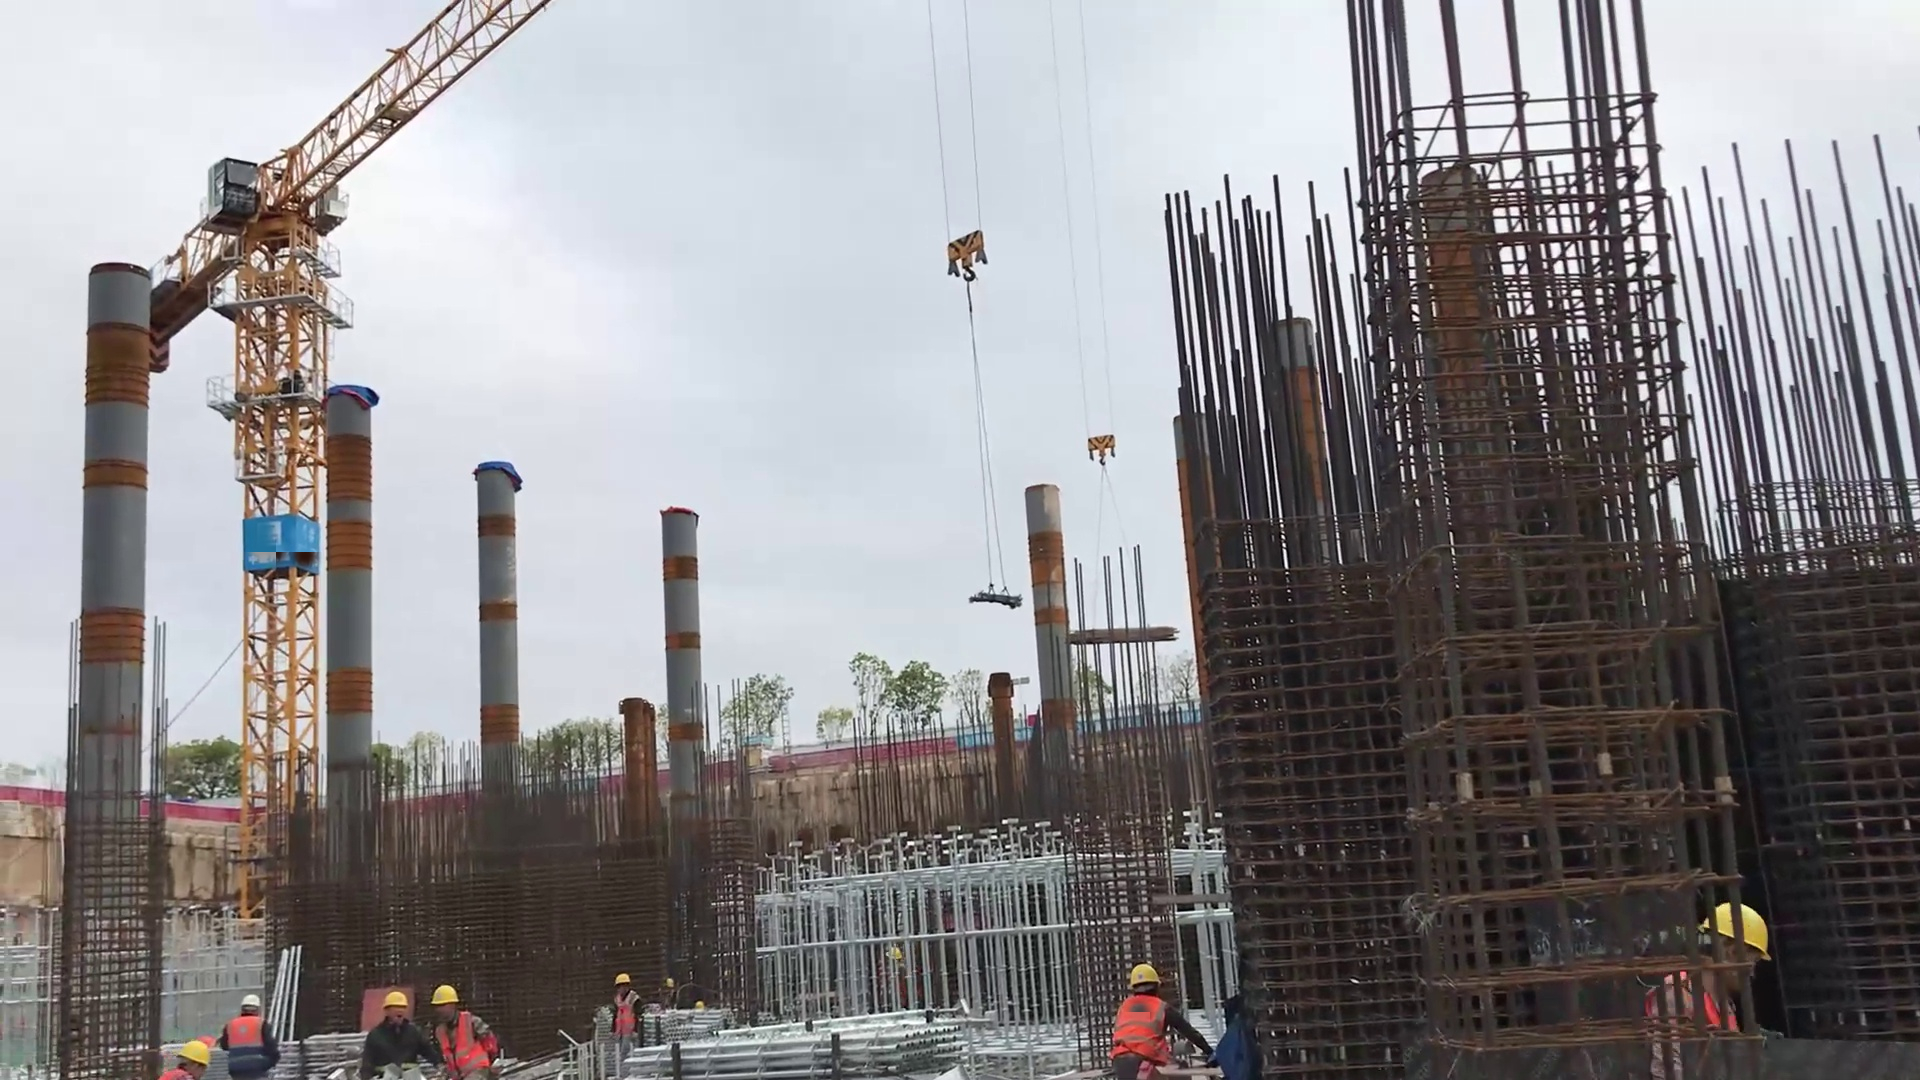helmet: (1702, 900, 1774, 963), (176, 1038, 213, 1067), (1129, 963, 1162, 987), (432, 985, 461, 1007), (381, 990, 408, 1010), (241, 993, 262, 1009), (613, 973, 632, 986)
person: (1649, 894, 1790, 1080), (1112, 963, 1207, 1080), (426, 976, 510, 1080), (355, 987, 440, 1080), (218, 987, 290, 1080), (601, 970, 647, 1042), (151, 1035, 220, 1080)
vest: (1112, 996, 1179, 1063), (435, 1015, 490, 1074), (224, 1014, 266, 1071)
